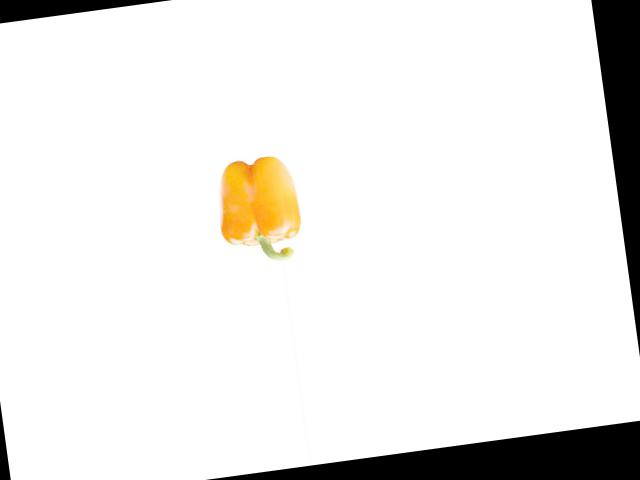bell_pepper: (204, 151, 314, 269)
